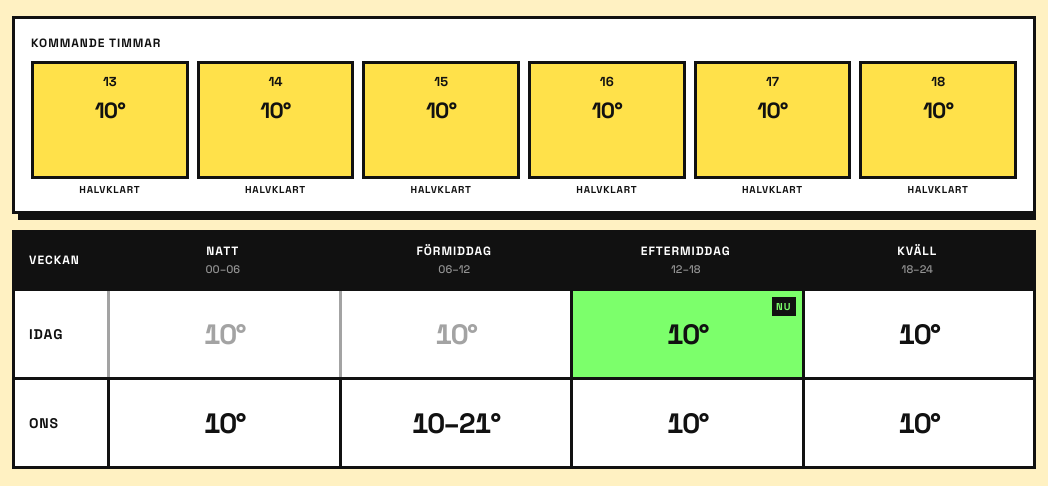
Scenario: DailyForecast › fills the hourly strip from the chosen day-part and restores upcoming hours on a second click
This screenshot has width=1048, height=486.
Expected: the text "Kommande timmar" is shown, [31, 35, 161, 51]
Expected: the text "13" is shown, [103, 72, 117, 92]
Click the button named "onsdag förmiddag". click: (454, 422)
box: [338, 380, 570, 466]
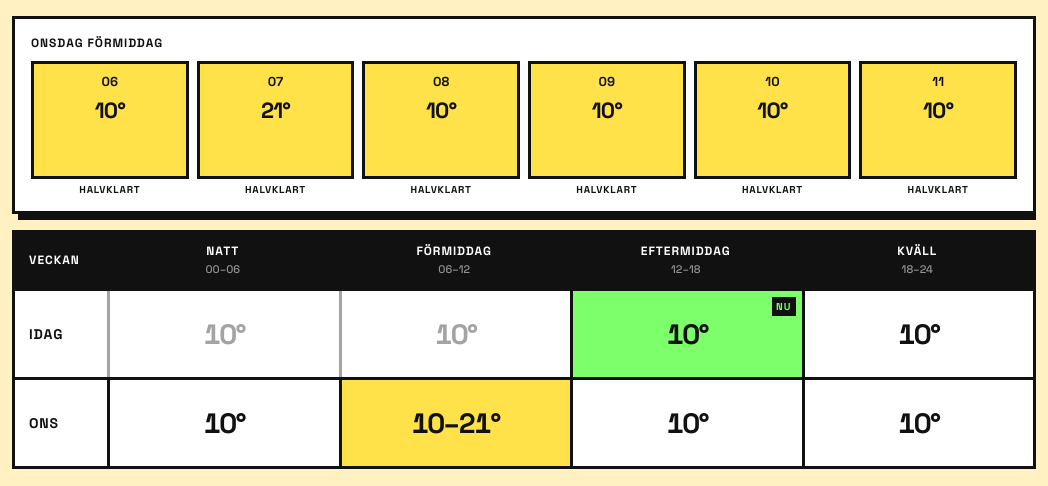
Expected: the text "Onsdag förmiddag" is shown, [31, 35, 163, 51]
Expected: the text "21°" is shown, [261, 94, 290, 126]
Expected: the text "06" is shown, [102, 72, 118, 92]
Click the button named "onsdag förmiddag, vald". click: (454, 422)
box: [338, 380, 570, 466]
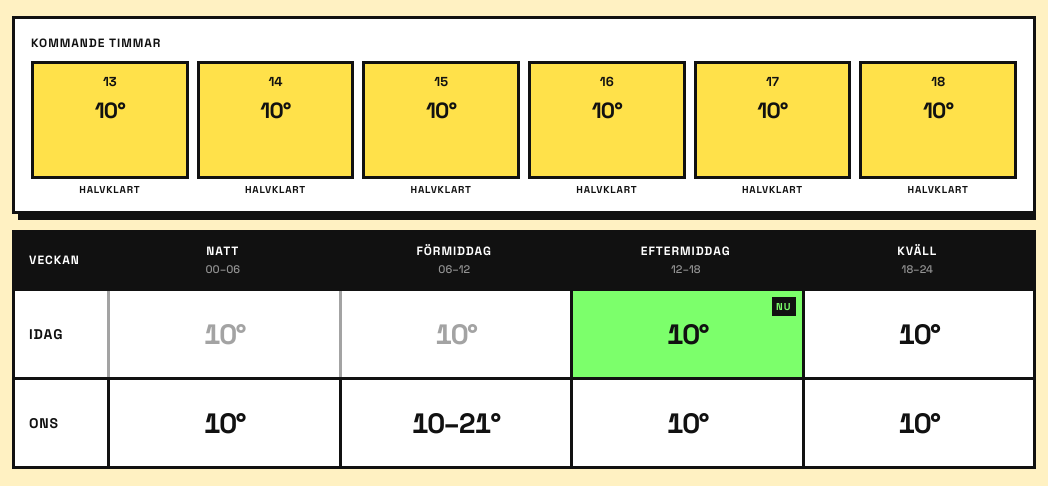
Expected: the text "13" is shown, [103, 72, 117, 92]
Expected: the text "Kommande timmar" is shown, [31, 35, 161, 51]
